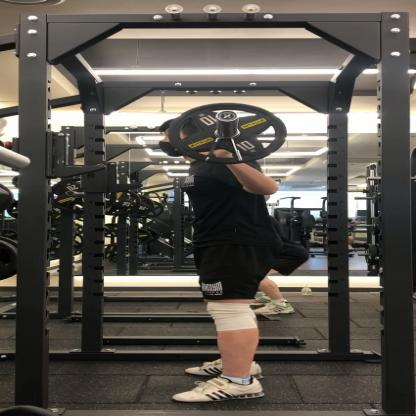Barbell: (158, 95, 289, 168)
